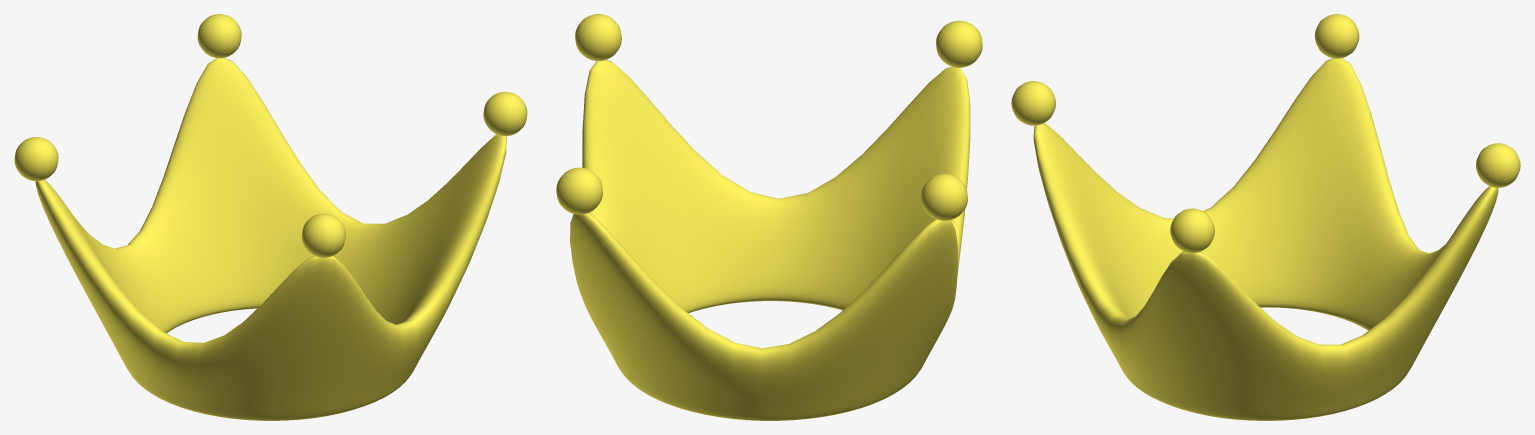
File: Crown.fbx
The picture shows the model from 3 angles, left to right: view 1: azimuth 30°, elevation 25°; view 2: azimuth 150°, elevation 25°; view 3: azimuth 270°, elevation 25°; orthographic projection. The views are drawn at different scales.
Visible parts, largest first — view 1: 圓形, 球體.002; view 2: 圓形, 球體.002; view 3: 圓形, 球體.002.
Boxes of the visible parts, bbox=[...] form: 圓形: bbox=[35, 58, 506, 420]; 球體.002: bbox=[14, 14, 527, 257]; 圓形: bbox=[570, 60, 970, 420]; 球體.002: bbox=[556, 14, 982, 220]; 圓形: bbox=[1033, 58, 1498, 420]; 球體.002: bbox=[1011, 14, 1520, 253].
Bounding box in the file's own units: 47.99 × 25.94 × 48.24.
